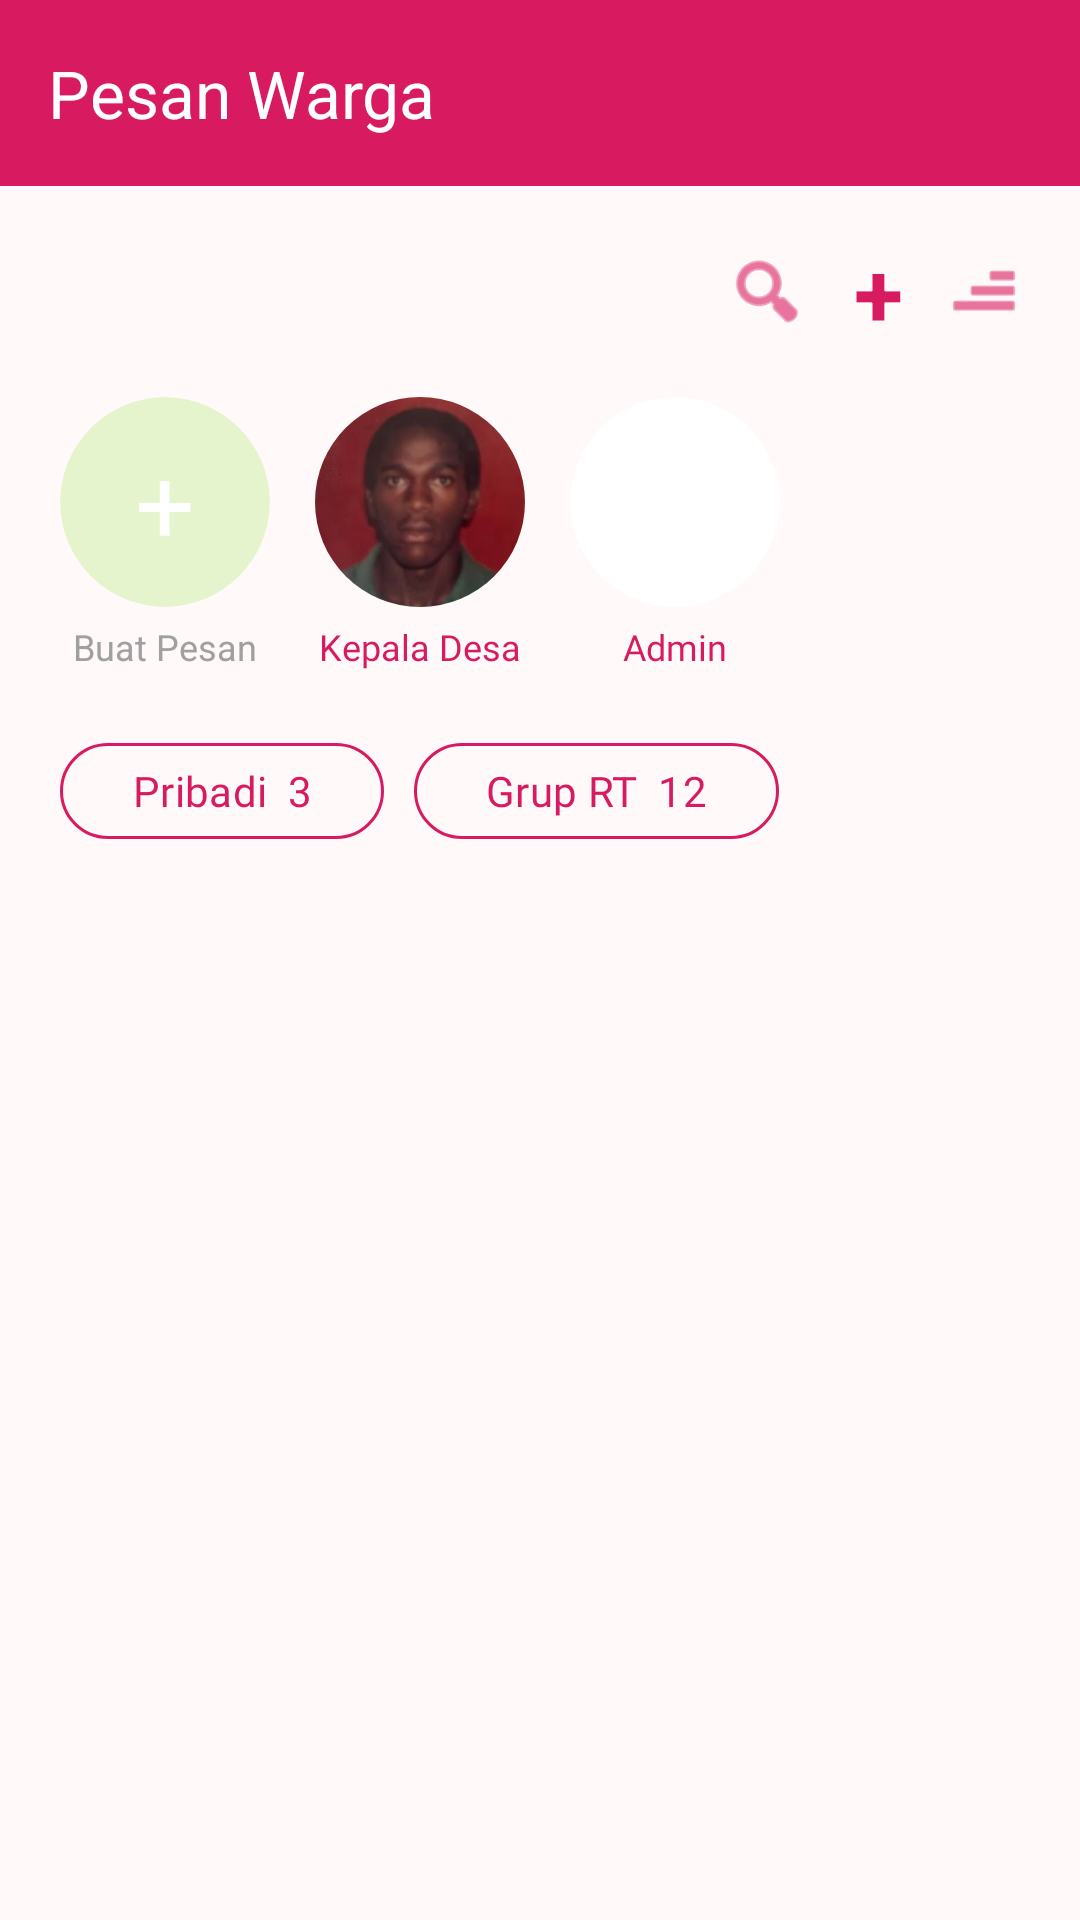

Screen size 1080px x 1920px. Icon name, then its center in pixels as point (x, y):
search: point (767, 291)
